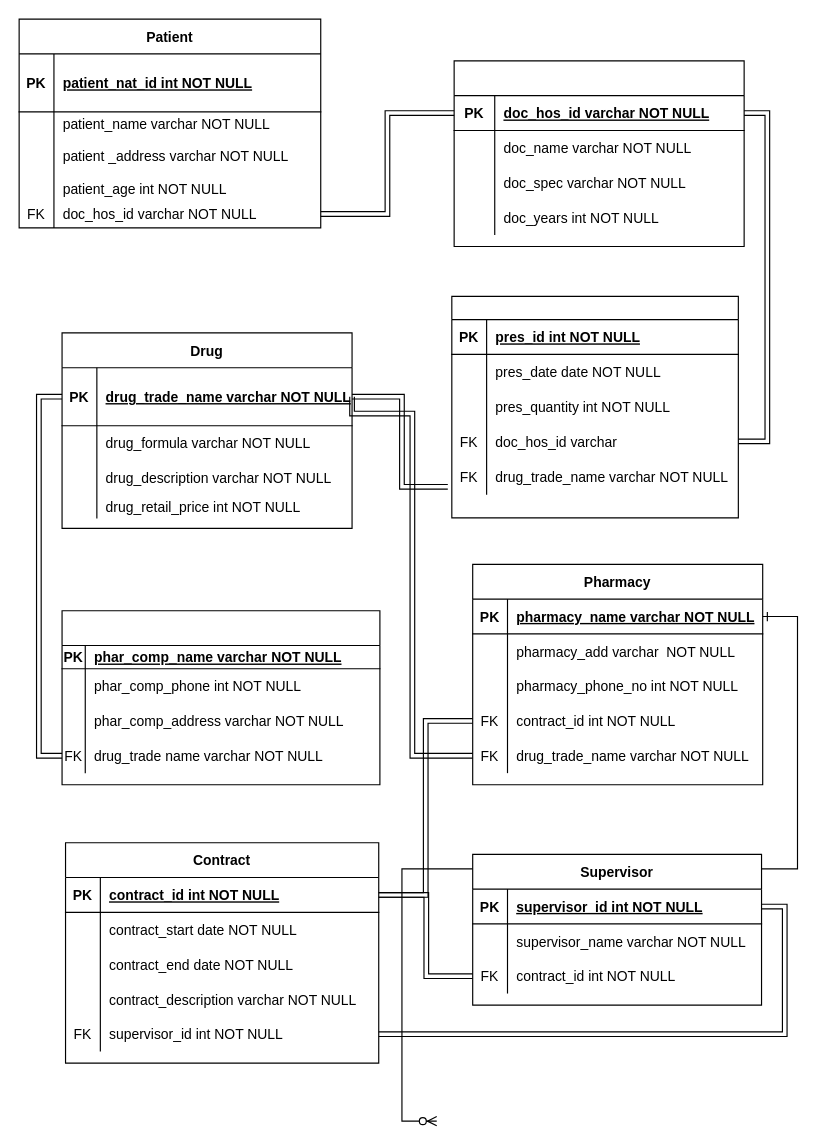
The diagram is 817 pixels wide and 1145 high, and some of its shapes have lost their labels. The shapes that lost their labels are listed below. From the top down, each one's box as (x1, y1, x2, y2) in pixels, then its label:
(453, 60, 744, 246): Doctor
(451, 295, 738, 518): Prescription
(61, 610, 380, 785): Pharmaceutical Company
